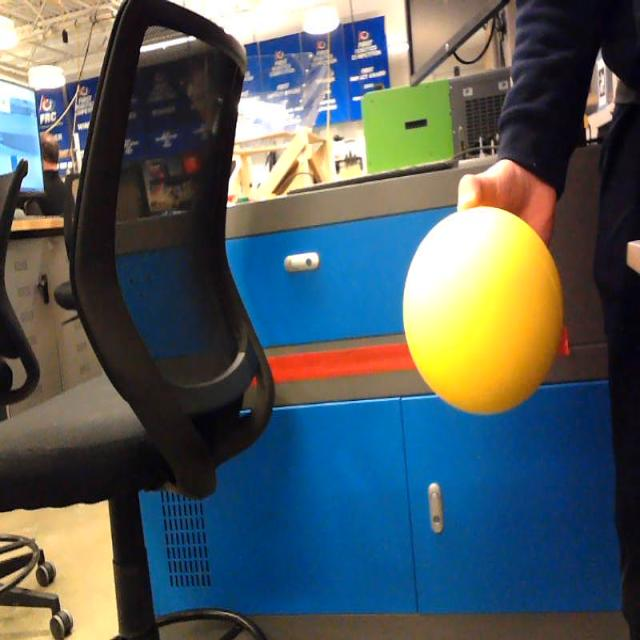Fuel: (404, 206, 564, 415)
